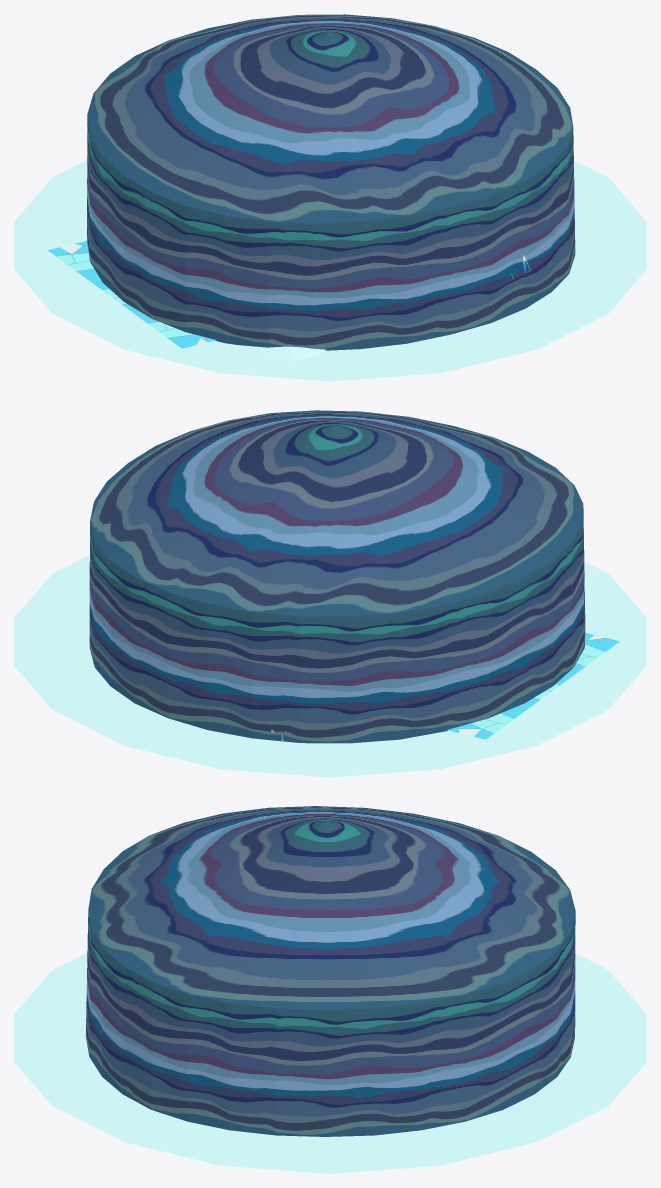
Rendered from IceKingdom.glb.
3 renders of one model, top to bottom at view 1: azimuth 30°, elevation 25°; view 2: azimuth 150°, elevation 25°; view 3: azimuth 270°, elevation 25°, orthographic.
Visible parts, largest first — view 1: IceKingdom_Sky, IceKingdom_snow, IceKingdom; view 2: IceKingdom_Sky, IceKingdom_snow, IceKingdom; view 3: IceKingdom_Sky, IceKingdom_snow.
Part boxes in pixels (<box>): IceKingdom_Sky: <box>87,14,575,350</box>; IceKingdom_snow: <box>14,160,646,381</box>; IceKingdom: <box>48,240,216,348</box>; IceKingdom_Sky: <box>89,410,585,743</box>; IceKingdom_snow: <box>14,555,646,777</box>; IceKingdom: <box>271,633,619,739</box>; IceKingdom_Sky: <box>85,806,575,1136</box>; IceKingdom_snow: <box>14,953,646,1173</box>.
Size of the model in its own units: 133 by 52.82 by 131.
7 materials, 7 textured.
